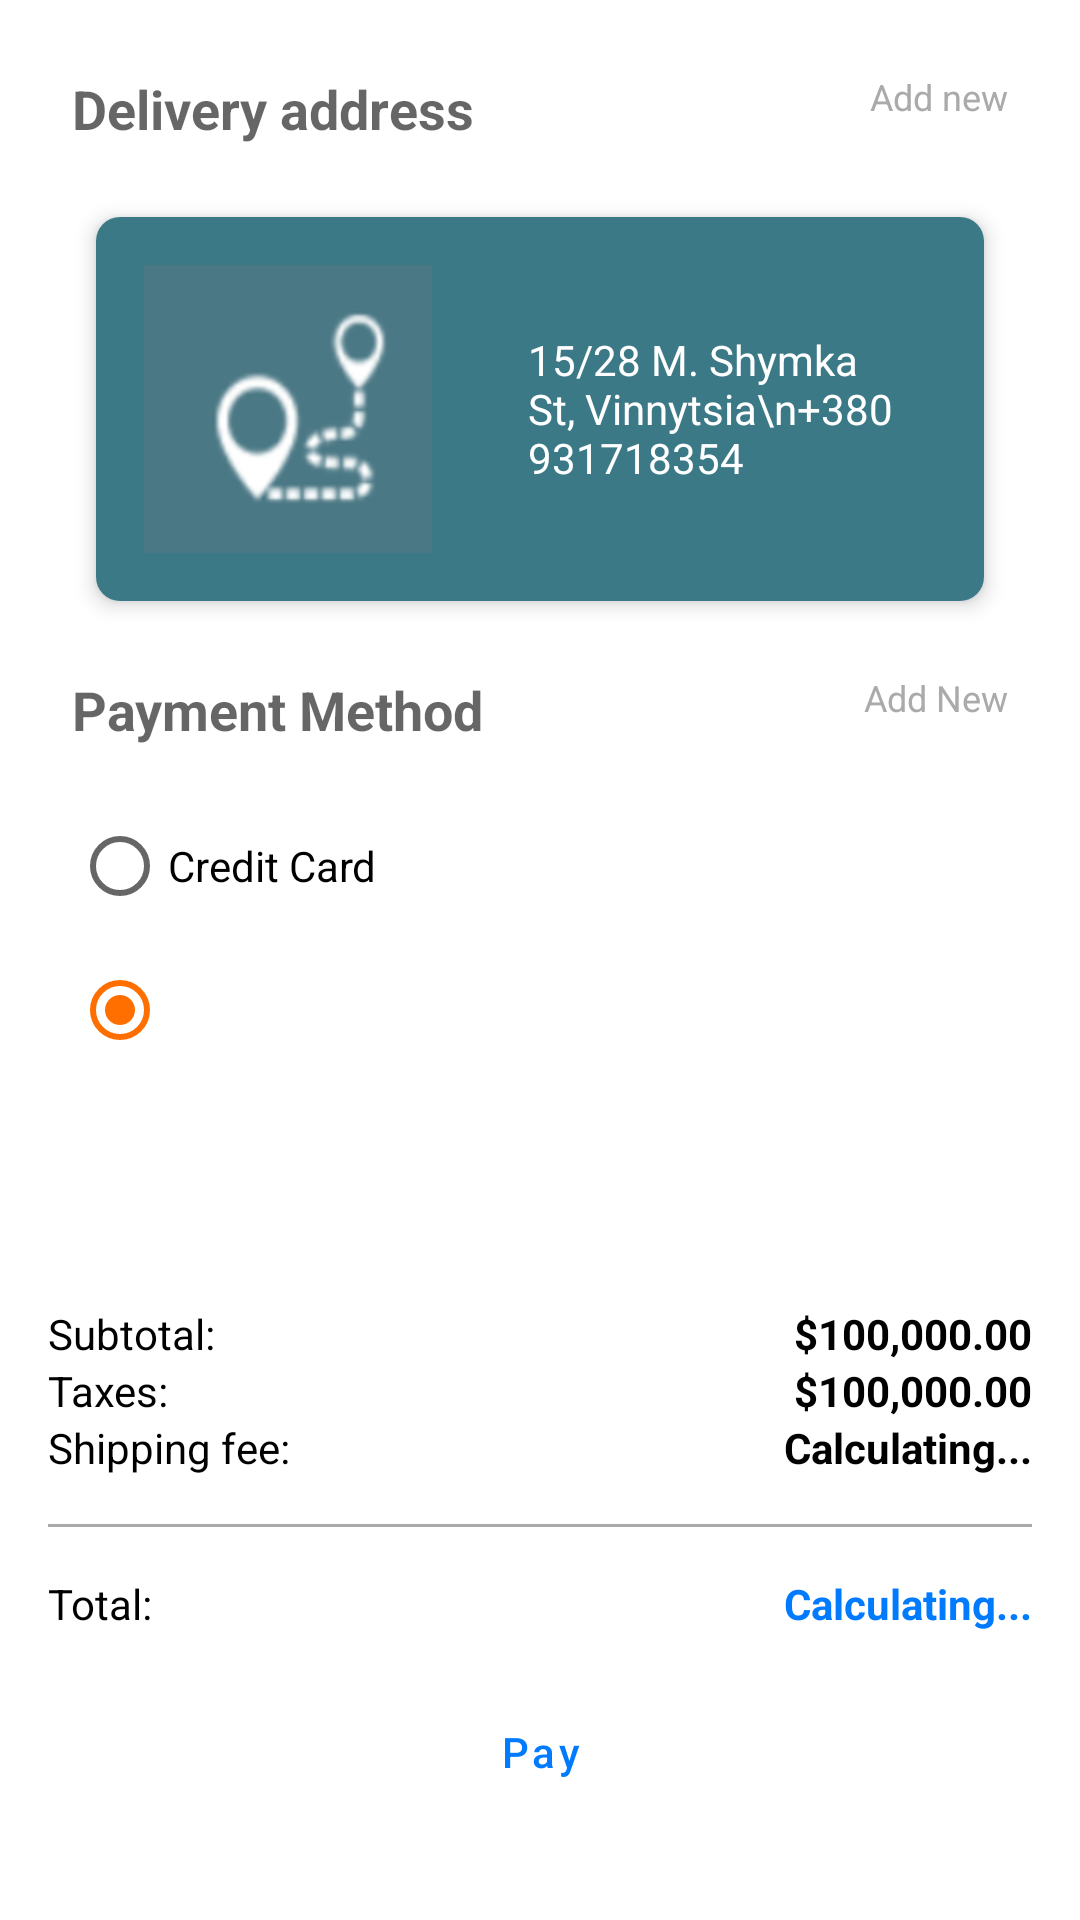

Screen size 1080x1920. Icon name, then its center in pixels as (x,y):
checkout location: (288,409)
